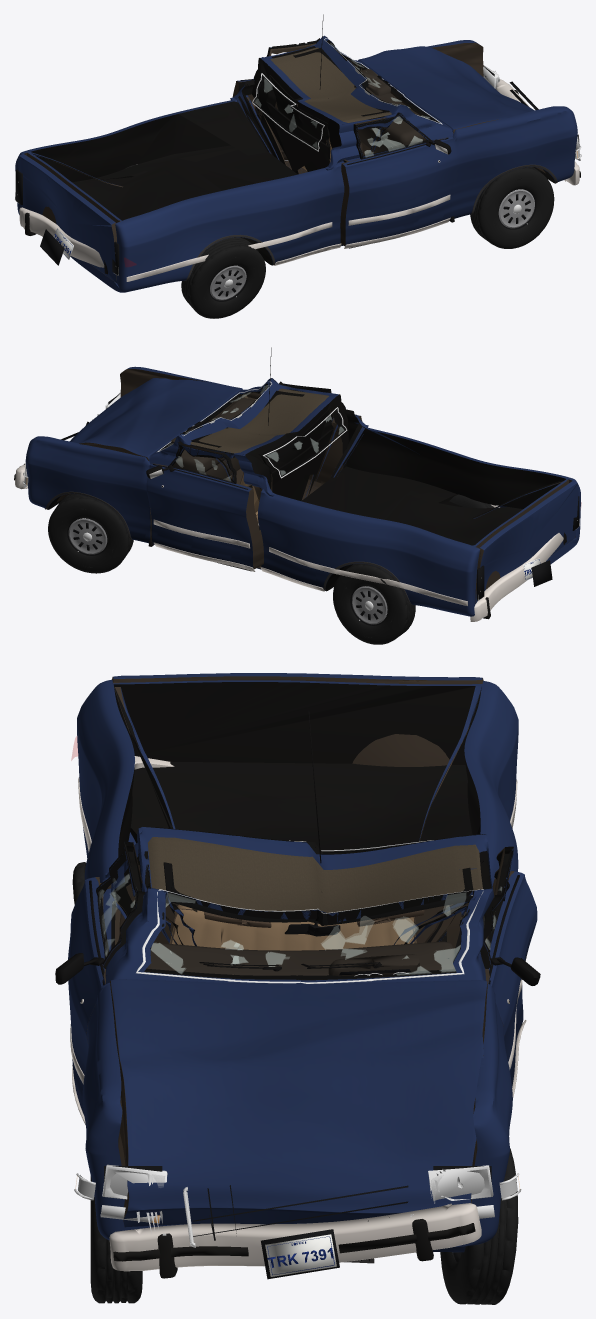
The model's file is pickup87_roll_d1_lod1.glb.
The picture shows the model from 3 angles, top to bottom: view 1: azimuth 30°, elevation 25°; view 2: azimuth 150°, elevation 25°; view 3: azimuth 270°, elevation 25°; orthographic projection. The views are drawn at different scales.
Parts seen in each view (by area): view 1: Body, Door_FR, Hood, Wheel_FR_mesh, Wheel_RR_mesh, Tailgate, Trim, Interior, Ends, Trim_FR, Glass, Bumper_R (+3 smaller); view 2: Body, Door_FL, Hood, Wheel_FL_mesh, Wheel_RL_mesh, Tailgate, Trim, Bumper_R, Trim_FL, Interior, Glass, Ends; view 3: Body, Hood, Interior, Bumper_F, Ends, Glass, Door_FR, Door_FL, Tailgate, Wheel_FL_mesh, Wheel_FR_mesh, Trim_FR (+3 smaller).
Boxes of the visible parts, x1,y1,x2,y2 form: Body: (15,35,577,292); Door_FR: (340,112,455,246); Hood: (358,46,575,173); Wheel_FR_mesh: (470,167,554,248); Wheel_RR_mesh: (181,237,265,318); Tailgate: (18,153,116,283); Trim: (126,14,557,281); Interior: (302,69,423,170); Ends: (15,65,581,275); Trim_FR: (344,115,451,248); Glass: (252,38,442,151); Bumper_R: (19,207,107,274); Body: (25,366,580,616); Door_FL: (146,441,263,569); Hood: (44,377,242,509); Wheel_FL_mesh: (48,494,133,573); Wheel_RL_mesh: (333,564,415,644); Tailgate: (475,481,578,603); Trim: (46,347,499,605); Bumper_R: (470,532,566,621); Trim_FL: (146,444,255,571); Interior: (171,398,259,522); Glass: (157,381,347,478); Ends: (22,392,579,600); Body: (77,679,518,1247); Hood: (109,979,487,1252); Interior: (146,904,454,976); Bumper_F: (109,1203,481,1278); Ends: (74,1164,521,1279); Glass: (136,840,483,983); Door_FR: (68,841,145,1115); Door_FL: (480,846,537,1087); Tailgate: (112,673,483,766); Wheel_FL_mesh: (440,1148,518,1304); Wheel_FR_mesh: (90,1176,142,1303); Trim_FR: (55,842,136,1125).
Bounding box in the file's own units: 5.16 × 2.27 × 2.2.
Materials: 34 (5 with a texture image).
